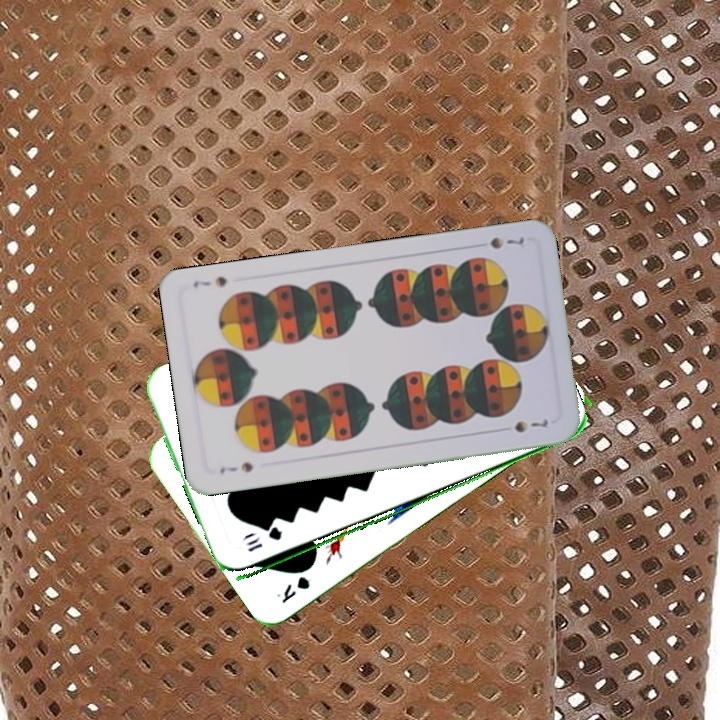G10: (242, 526, 285, 555)
GK: (272, 572, 313, 606)
S7: (485, 233, 527, 252), (216, 458, 256, 477)
